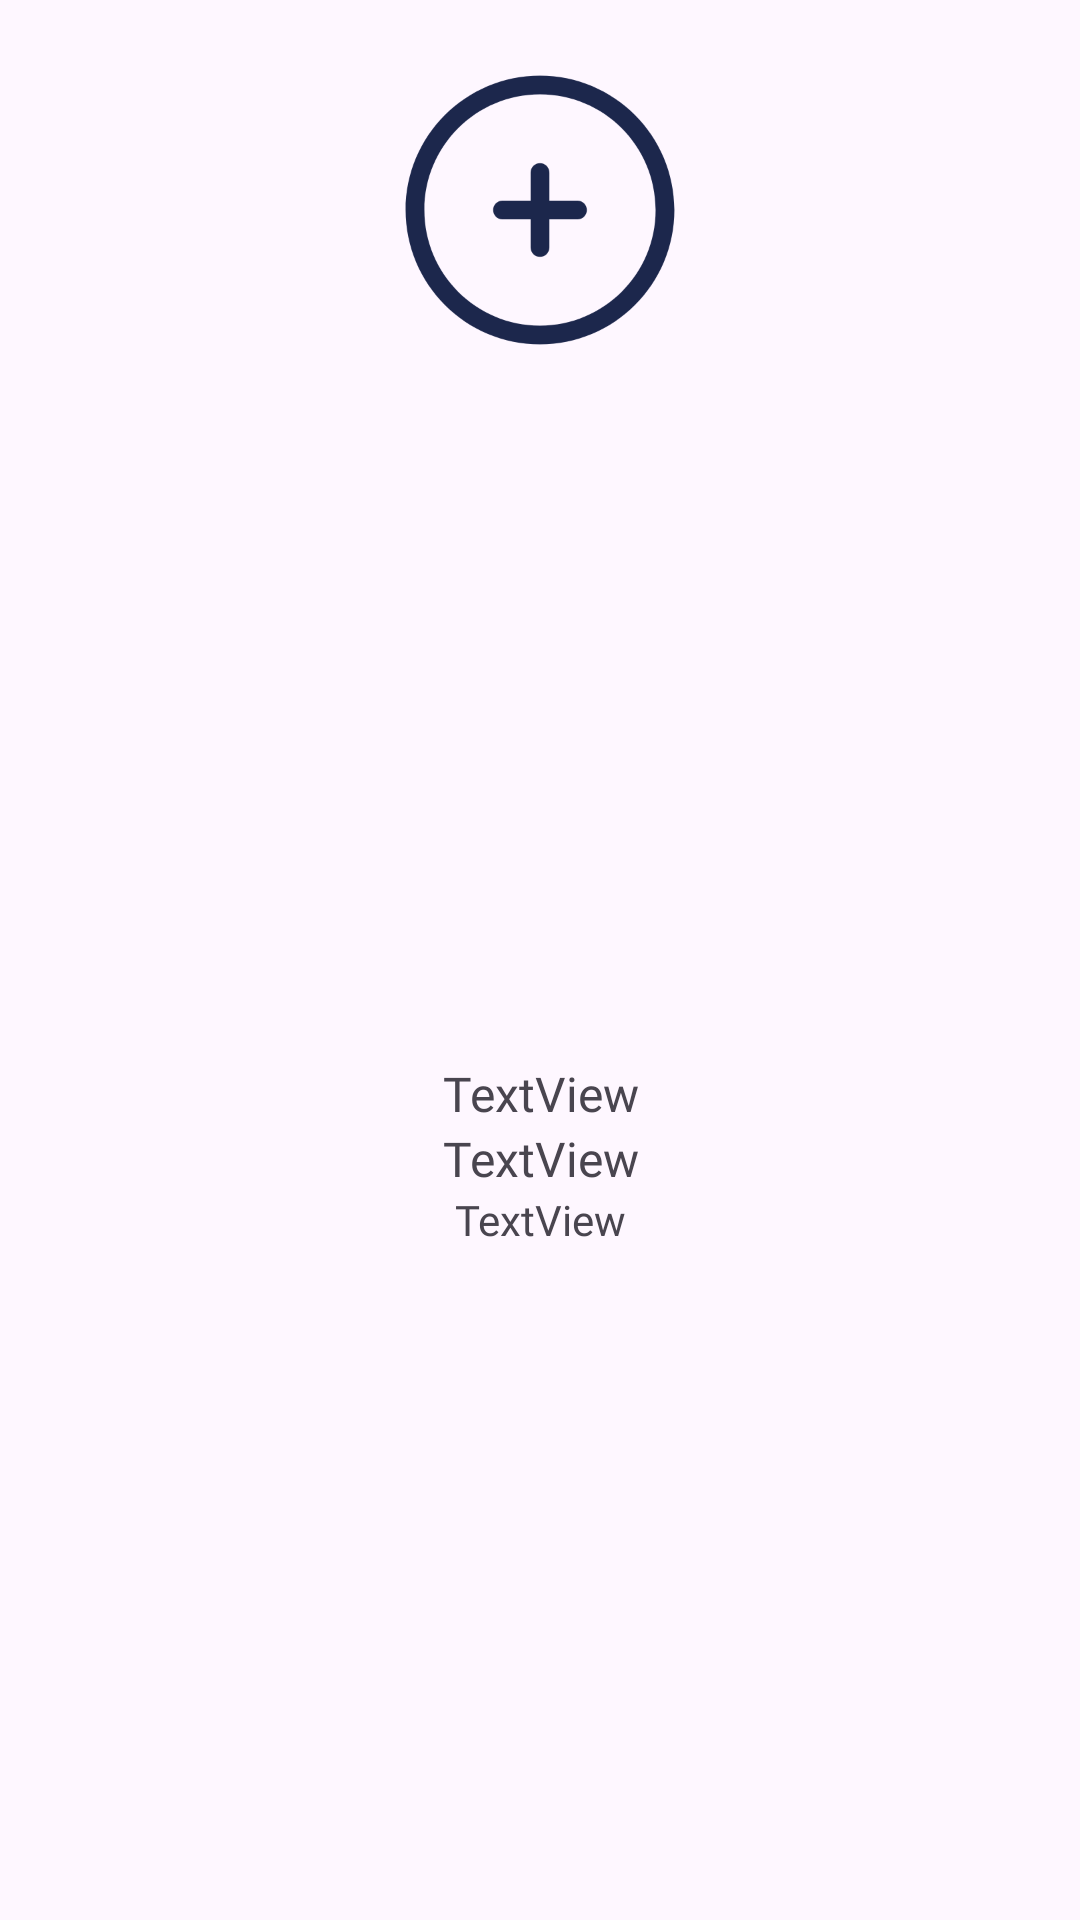

Icon bounding boxes for this 1080x1920 phone screenshot, format box(x1, y1, x2, y2):
add: box(405, 75, 675, 345)
